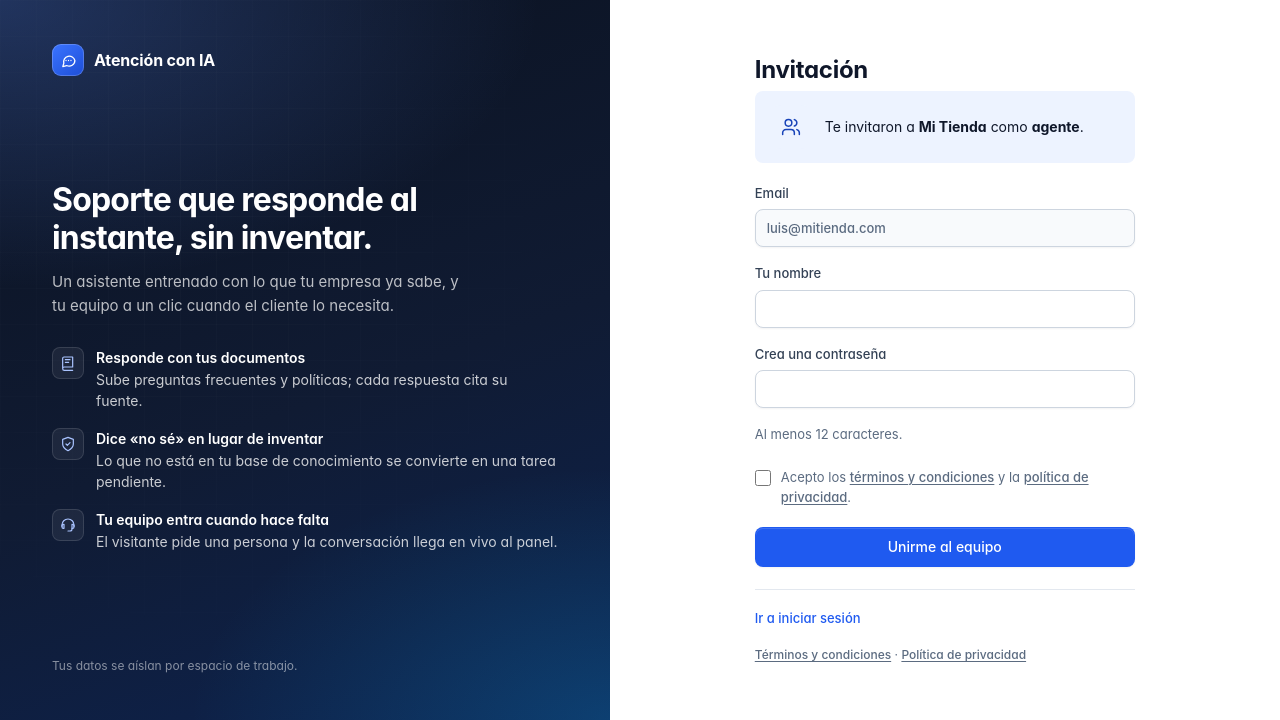
Scenario: Team › joins a workspace from an invitation link with a new account
Expected: the text "Mi Tienda" is shown, [919,118,987,135]
Type "Luis" into the field labelled "Tu nombre".
click(945, 309); type("Luis")  # box [755,290,1135,328]
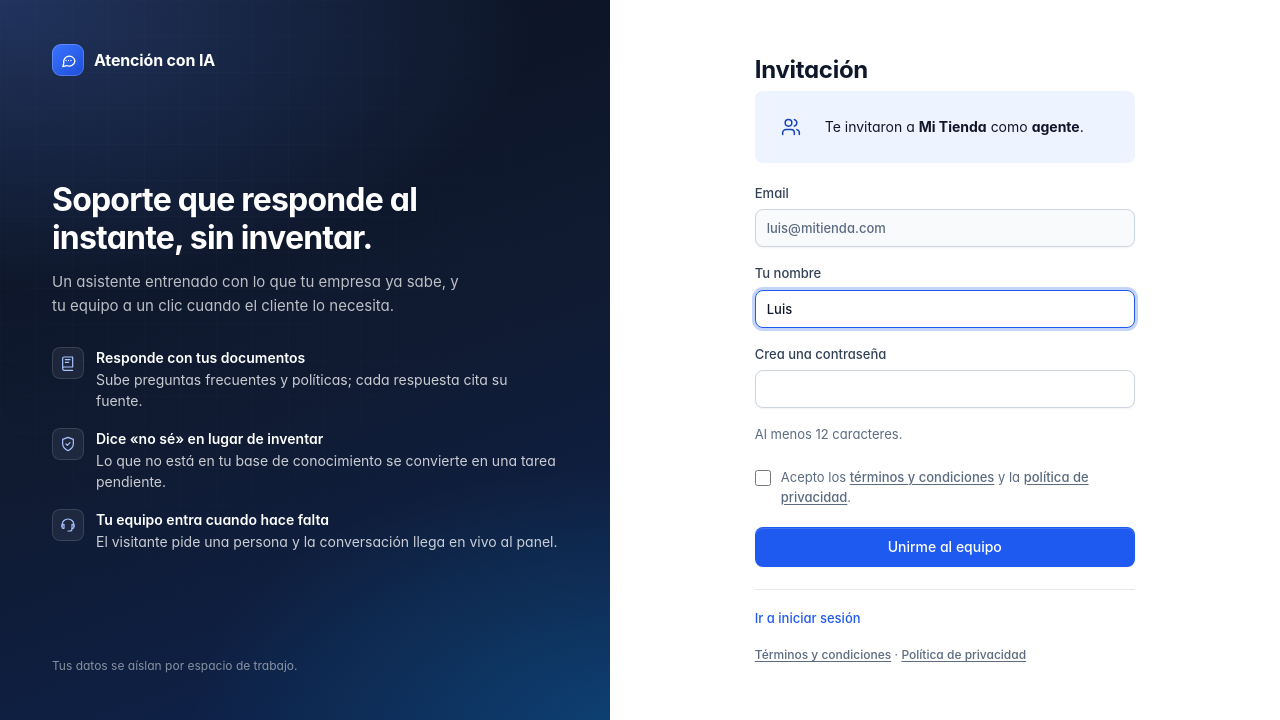
Type "correct horse battery staple" into the password field labelled "Crea una contraseña".
click(945, 389); type("correct horse battery staple")  # box [755,370,1135,408]
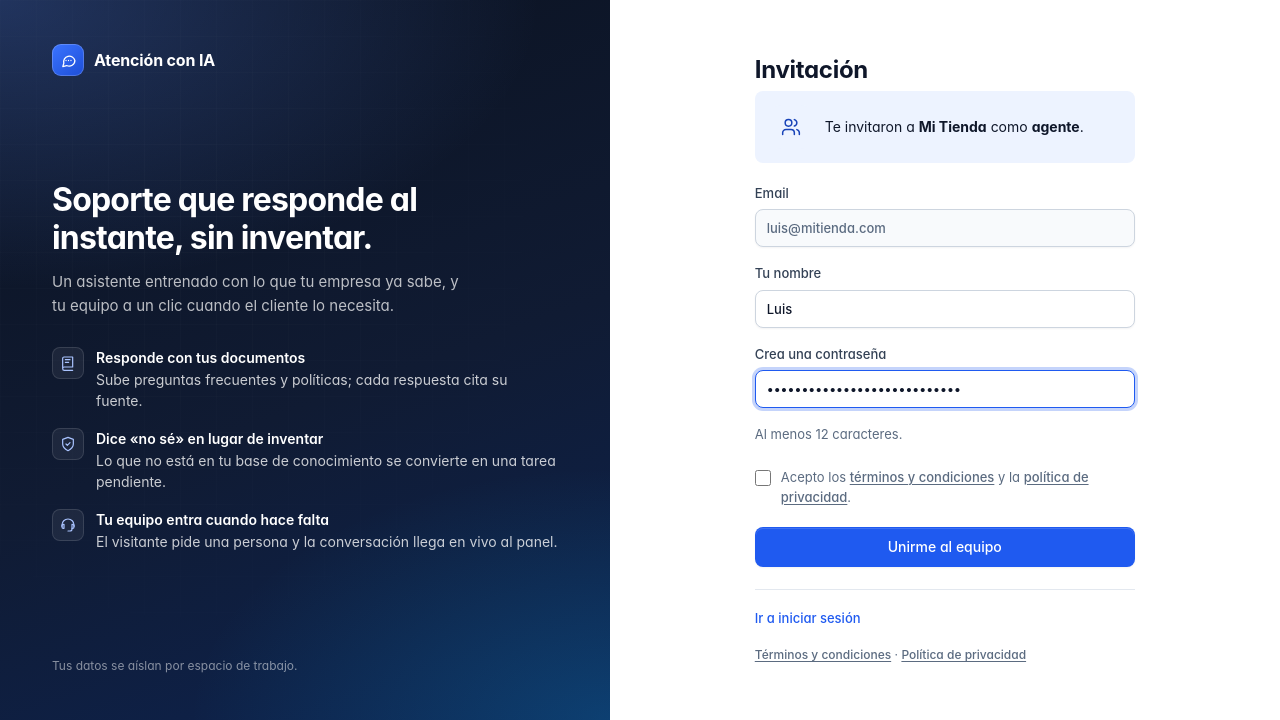
Click the checkbox labelled "Acepto los términos y condiciones".
click(763, 478)  # box [755,470,771,486]
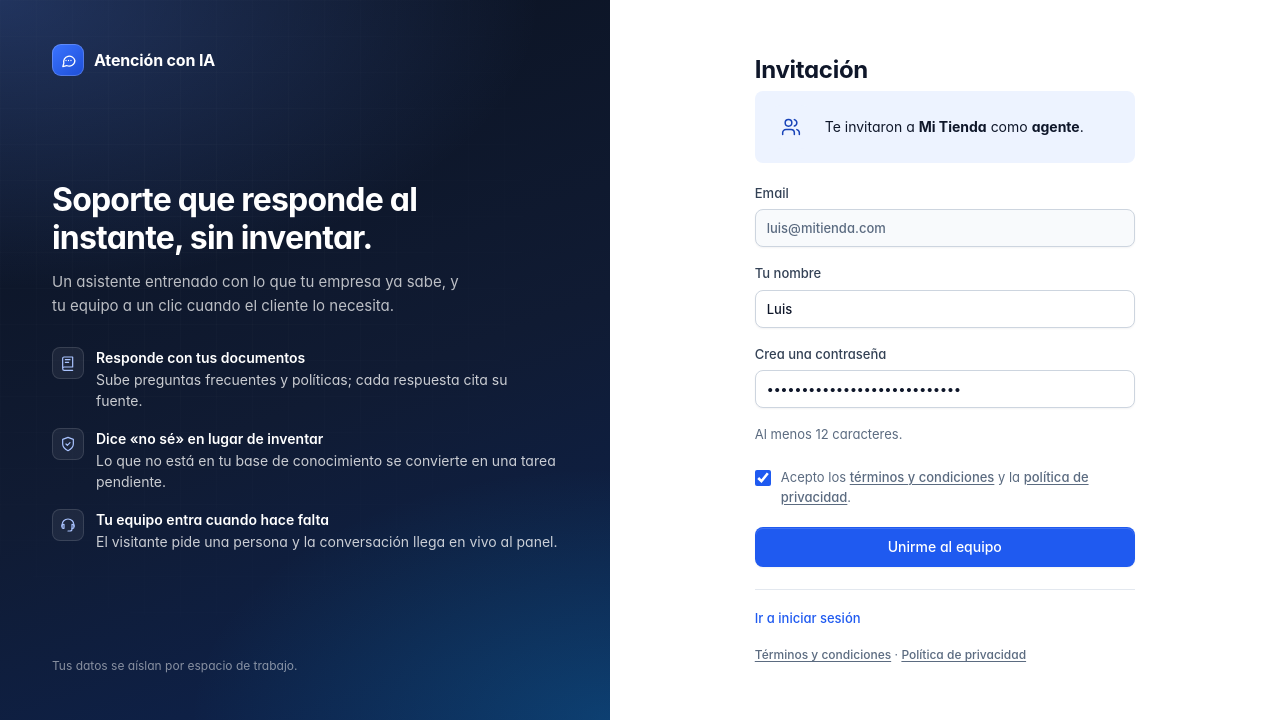
Click the button "Unirme al equipo".
click(945, 547)  # box [755,527,1135,567]
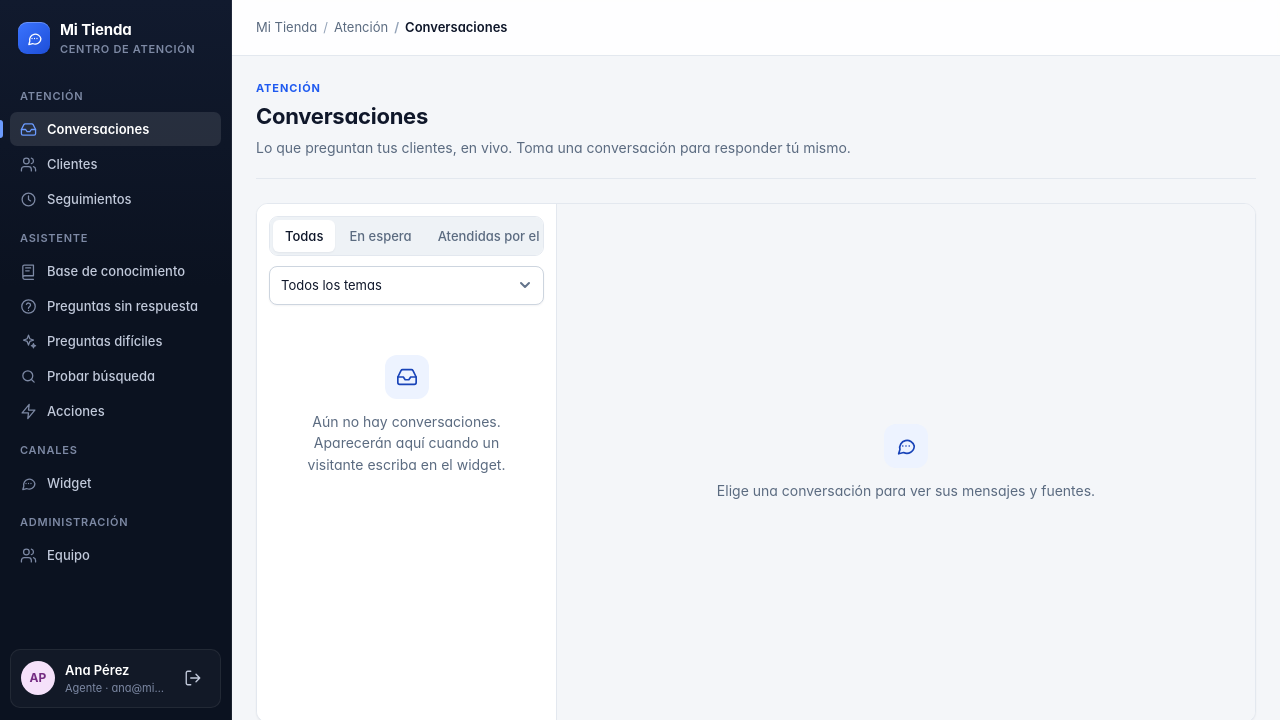
Result: the heading "Conversaciones" is shown at [256,103,428,129]
